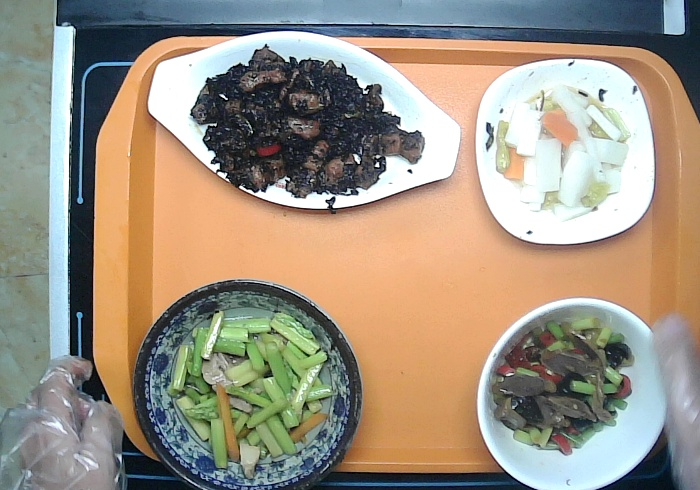ZNLD-Qing_Hua_Wan: (135, 276, 363, 490)
ZNLD-Si_Fang_Wan: (475, 57, 658, 250)
ZNLD-Tang_Wan: (477, 295, 671, 490)
ZNLD-Yu_Pan: (147, 28, 468, 212)
